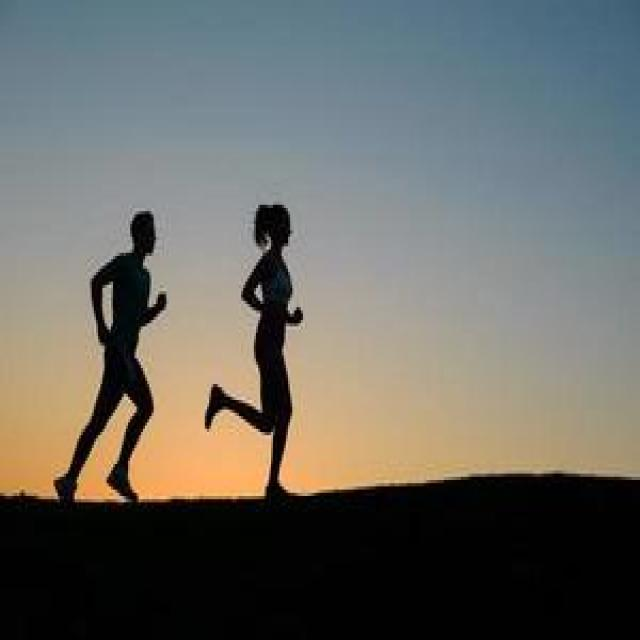Person: (52, 212, 166, 498), (205, 204, 304, 495)
